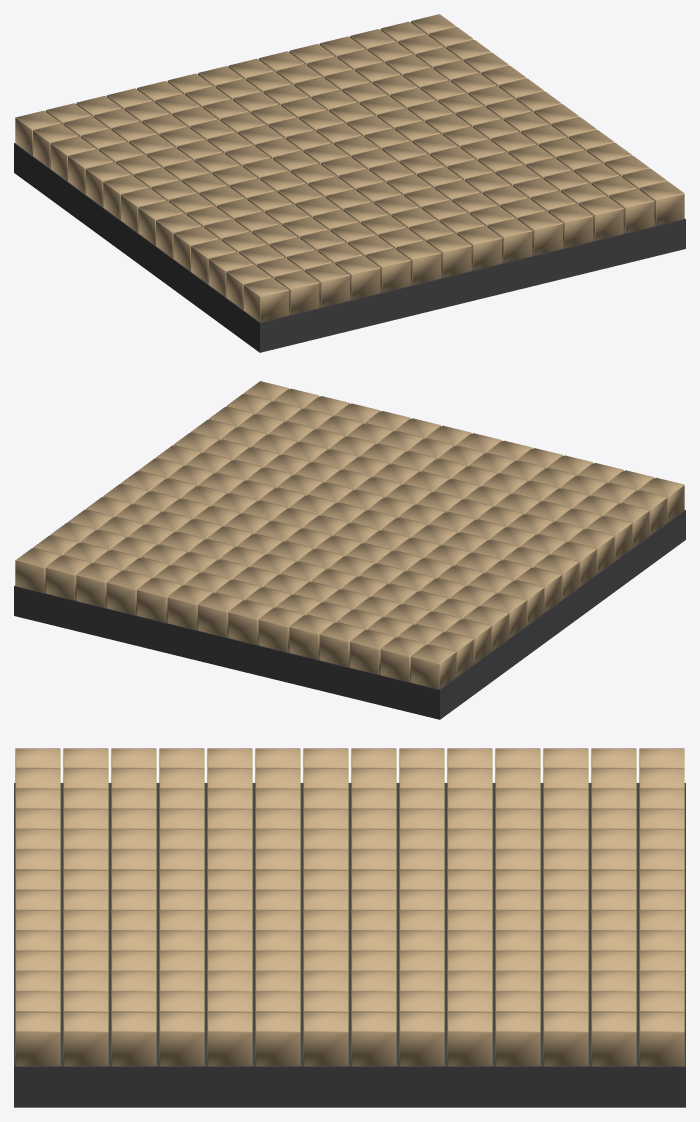
The model's file is 29-sidewalk-plain.glb.
3 renders of one model, top to bottom at view 1: azimuth 30°, elevation 25°; view 2: azimuth 150°, elevation 25°; view 3: azimuth 270°, elevation 25°, orthographic. The views are drawn at different scales.
Visible parts, largest first — view 1: Pavers, Base; view 2: Pavers, Base; view 3: Pavers, Base.
Part boxes in pixels (box(x1,y1,x2,y2)): Pavers: box(15, 14, 684, 322); Base: box(14, 143, 685, 352); Pavers: box(15, 381, 684, 689); Base: box(14, 510, 685, 719); Pavers: box(15, 748, 684, 1066); Base: box(14, 783, 685, 1107).
Bounding box in the file's own units: 3 × 0.373 × 3.
